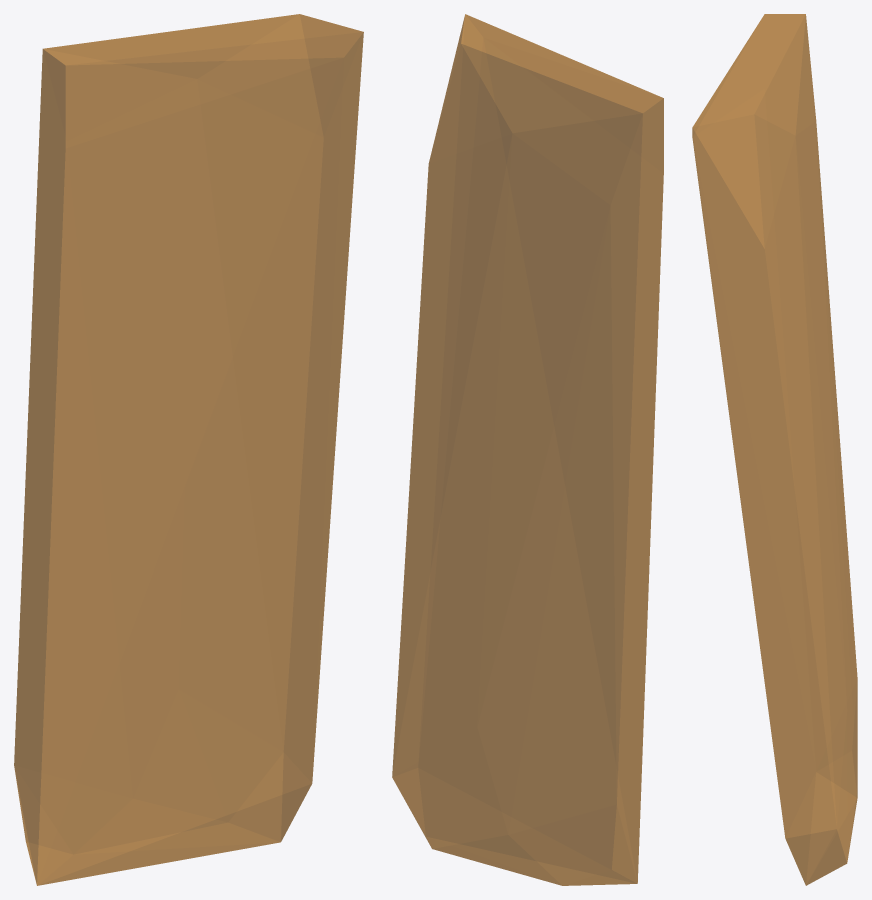
The picture shows the model from 3 angles, left to right: view 1: azimuth 30°, elevation 25°; view 2: azimuth 150°, elevation 25°; view 3: azimuth 270°, elevation 25°; orthographic projection. The views are drawn at different scales.
Visible parts, largest first — view 1: Shape_IndexedFaceSet.011_Shape_IndexedFaceSet.11803; view 2: Shape_IndexedFaceSet.011_Shape_IndexedFaceSet.11803; view 3: Shape_IndexedFaceSet.011_Shape_IndexedFaceSet.11803.
Part boxes in pixels (x1,y1,x2,y2): Shape_IndexedFaceSet.011_Shape_IndexedFaceSet.11803: (14, 14, 363, 885); Shape_IndexedFaceSet.011_Shape_IndexedFaceSet.11803: (392, 14, 663, 885); Shape_IndexedFaceSet.011_Shape_IndexedFaceSet.11803: (692, 14, 857, 885).
Bounding box in the file's own units: 0.131 × 0.4129 × 0.0806.
